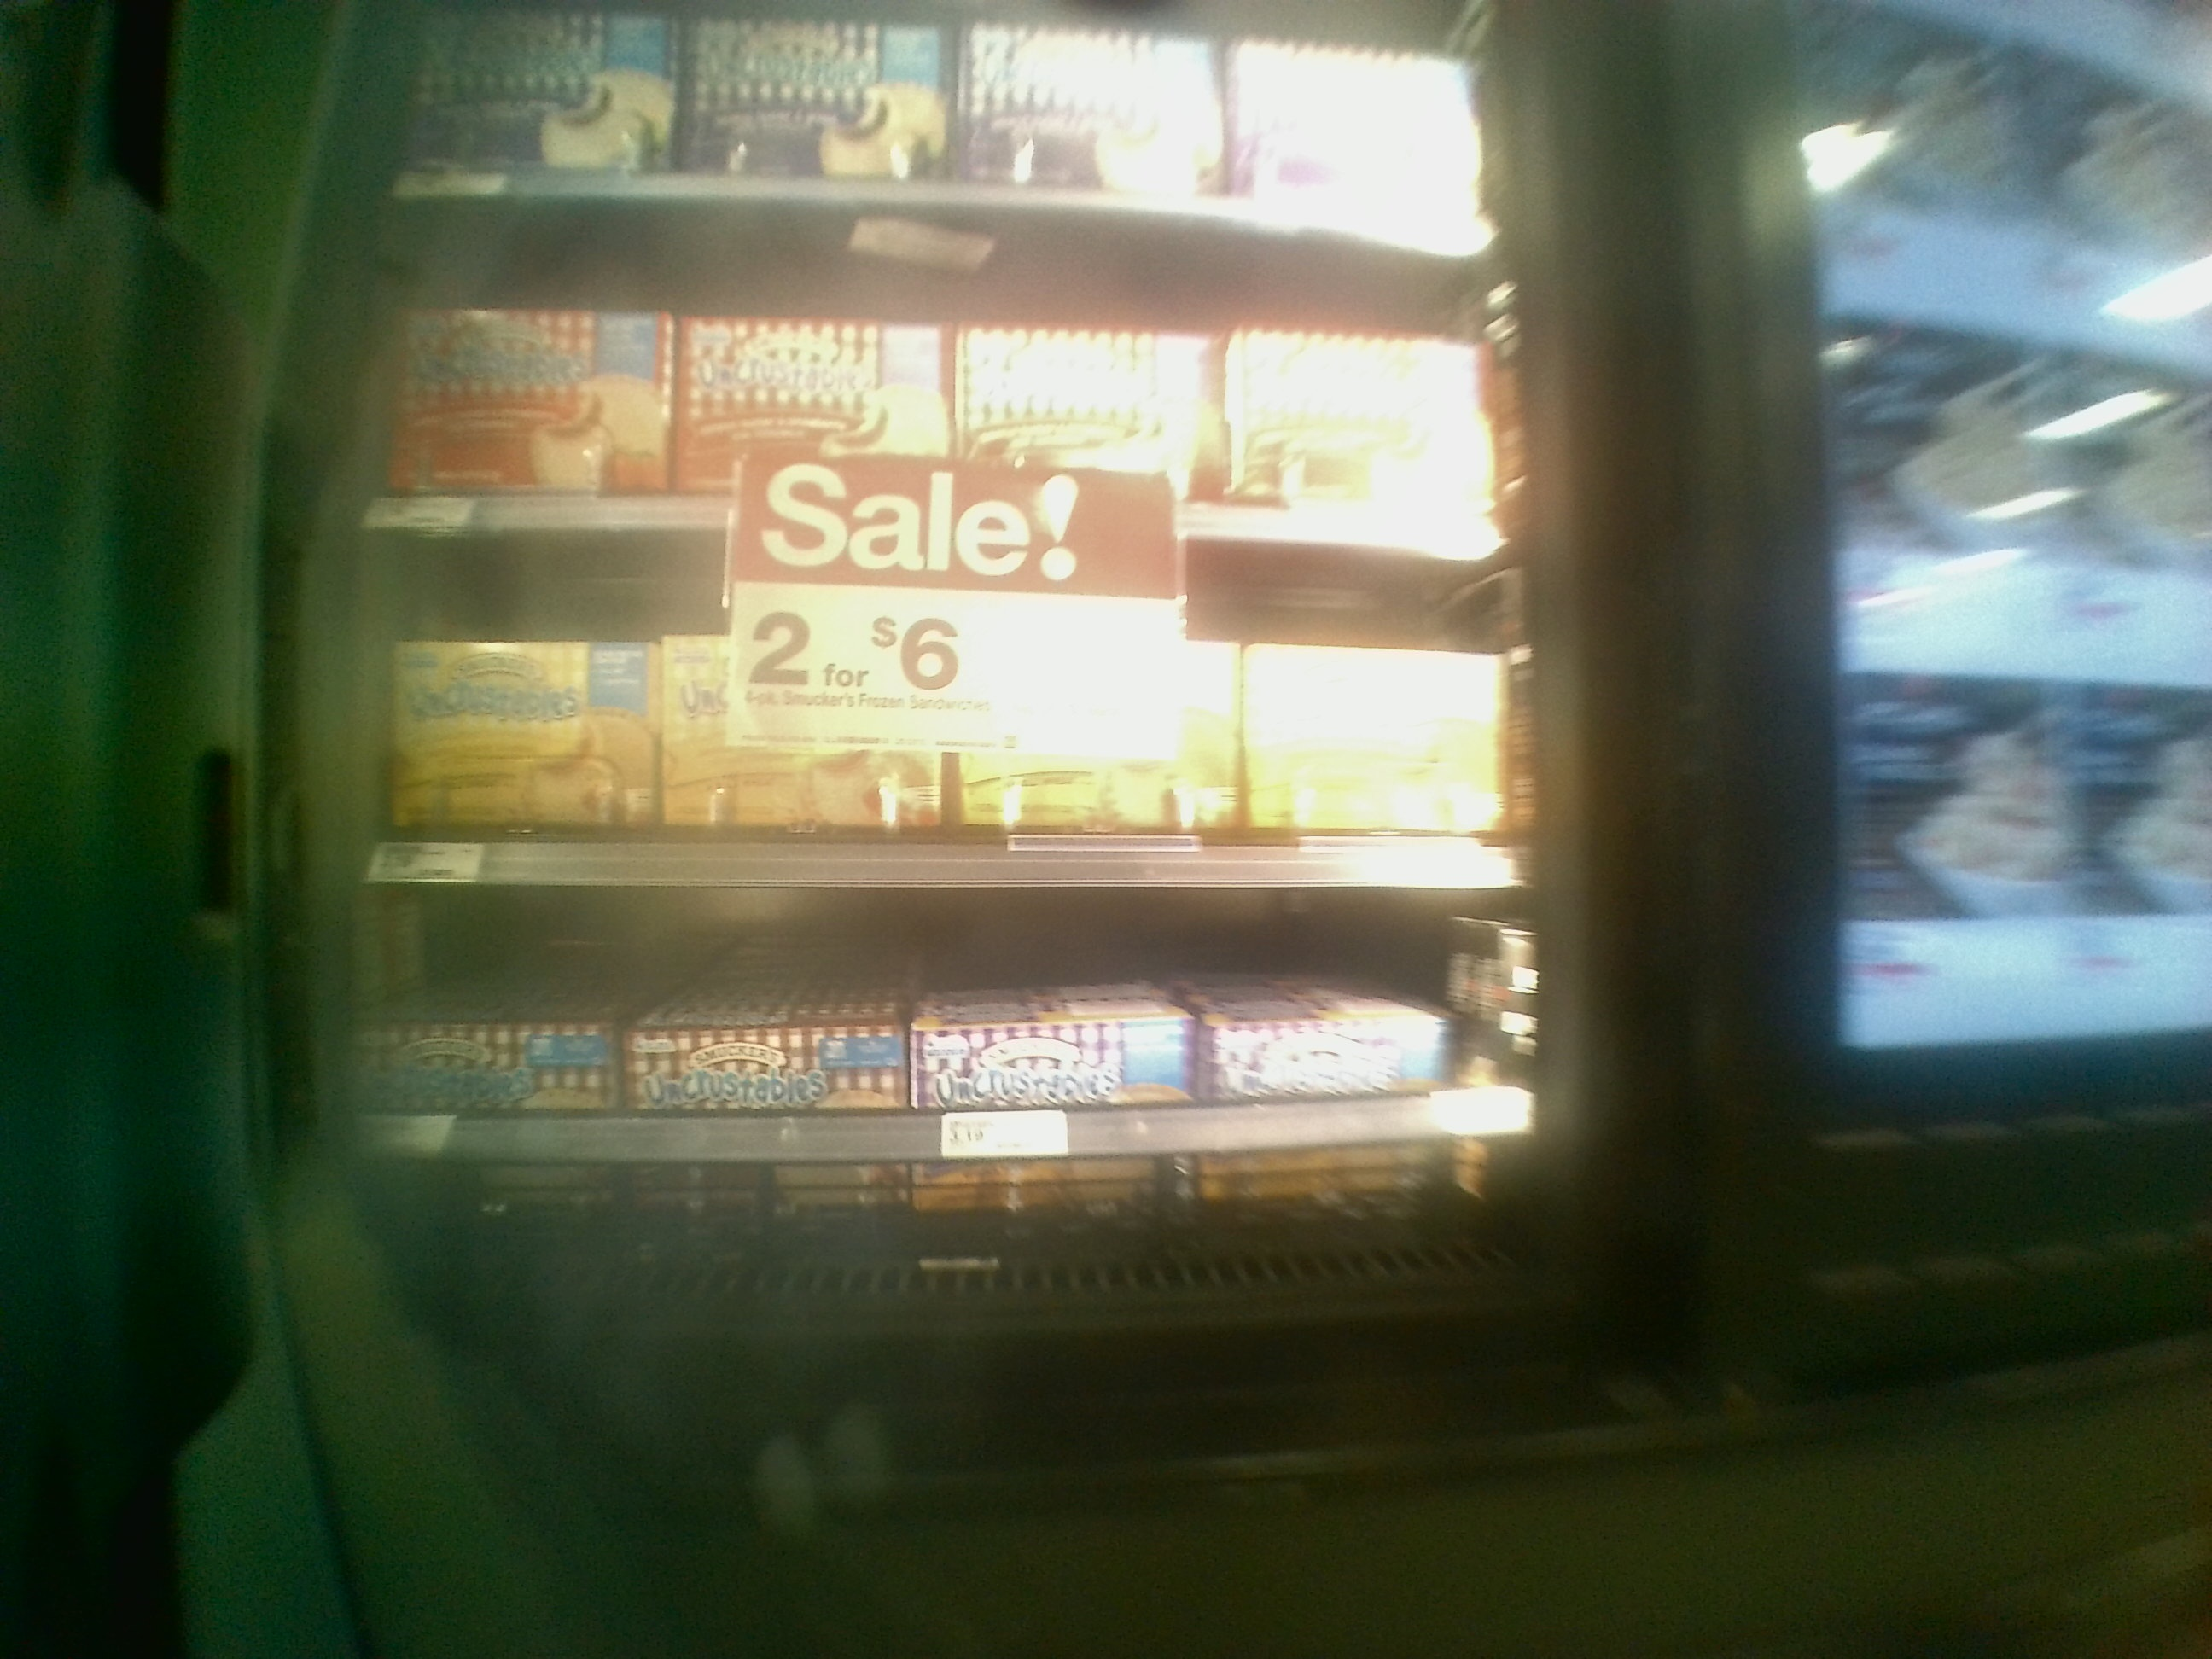shelf: (327, 866, 1554, 1330), (359, 521, 1507, 875)
